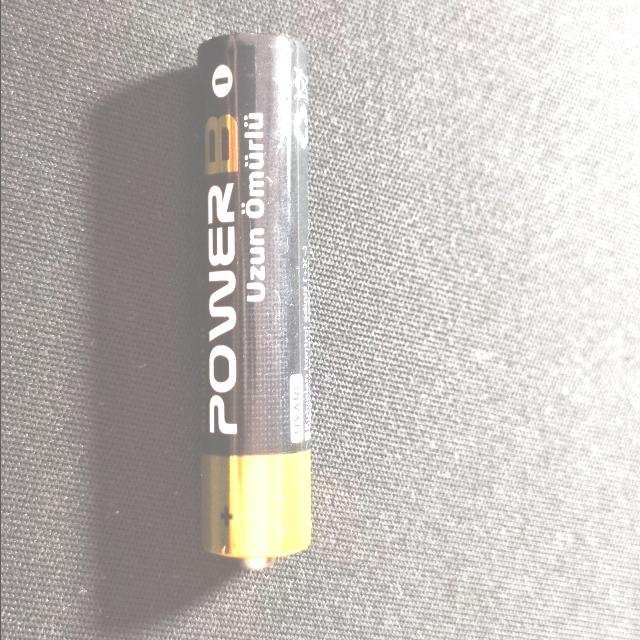AA: (196, 29, 316, 581)
